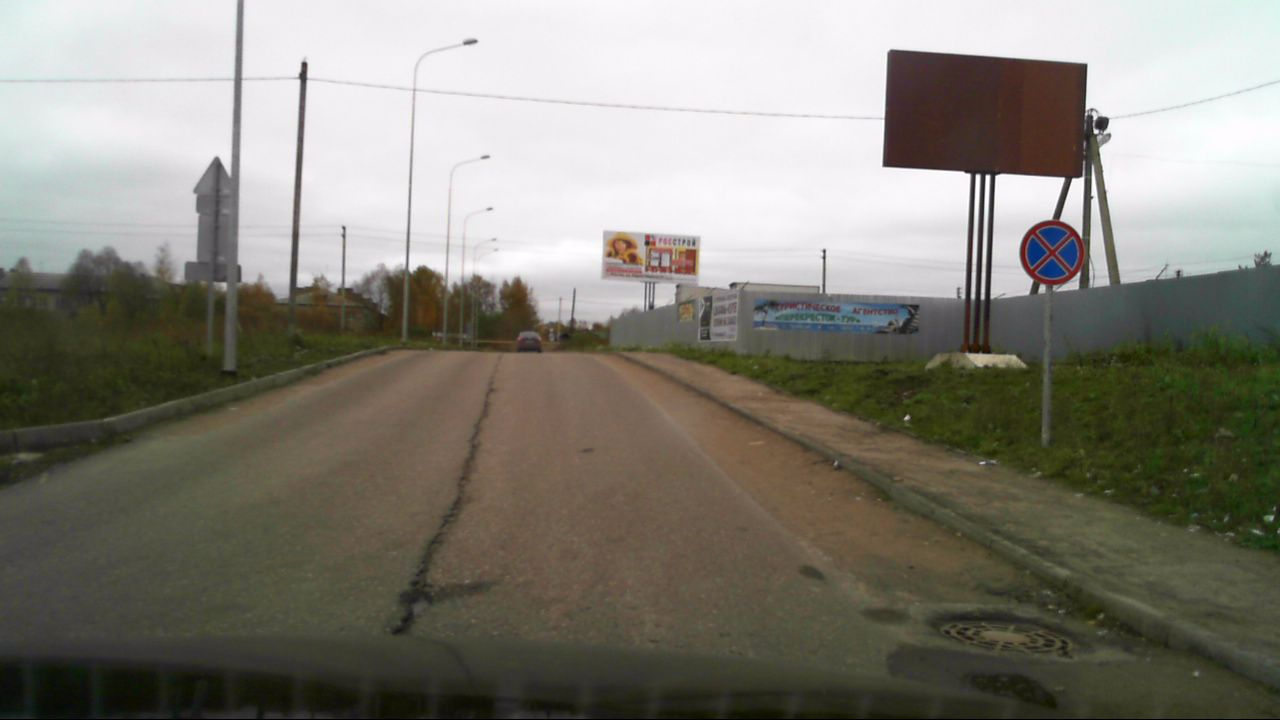No Parking: (1019, 218, 1087, 285)
